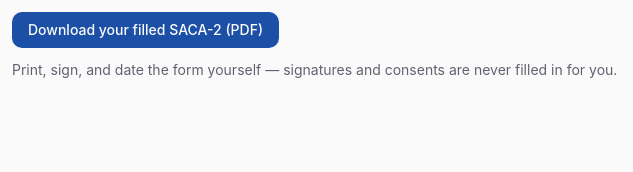
it: Saca2Download › shows the retryable alert when the network fails
Click the button "Download your filled SACA-2 (PDF)". click: coordinates (146, 30)
box: [12,12,279,48]
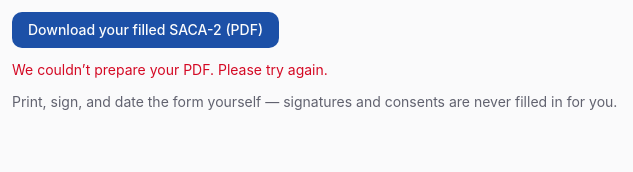
Now the message reads "We couldn’t prepare your PDF. Please try again.", box [12,61,328,78]
